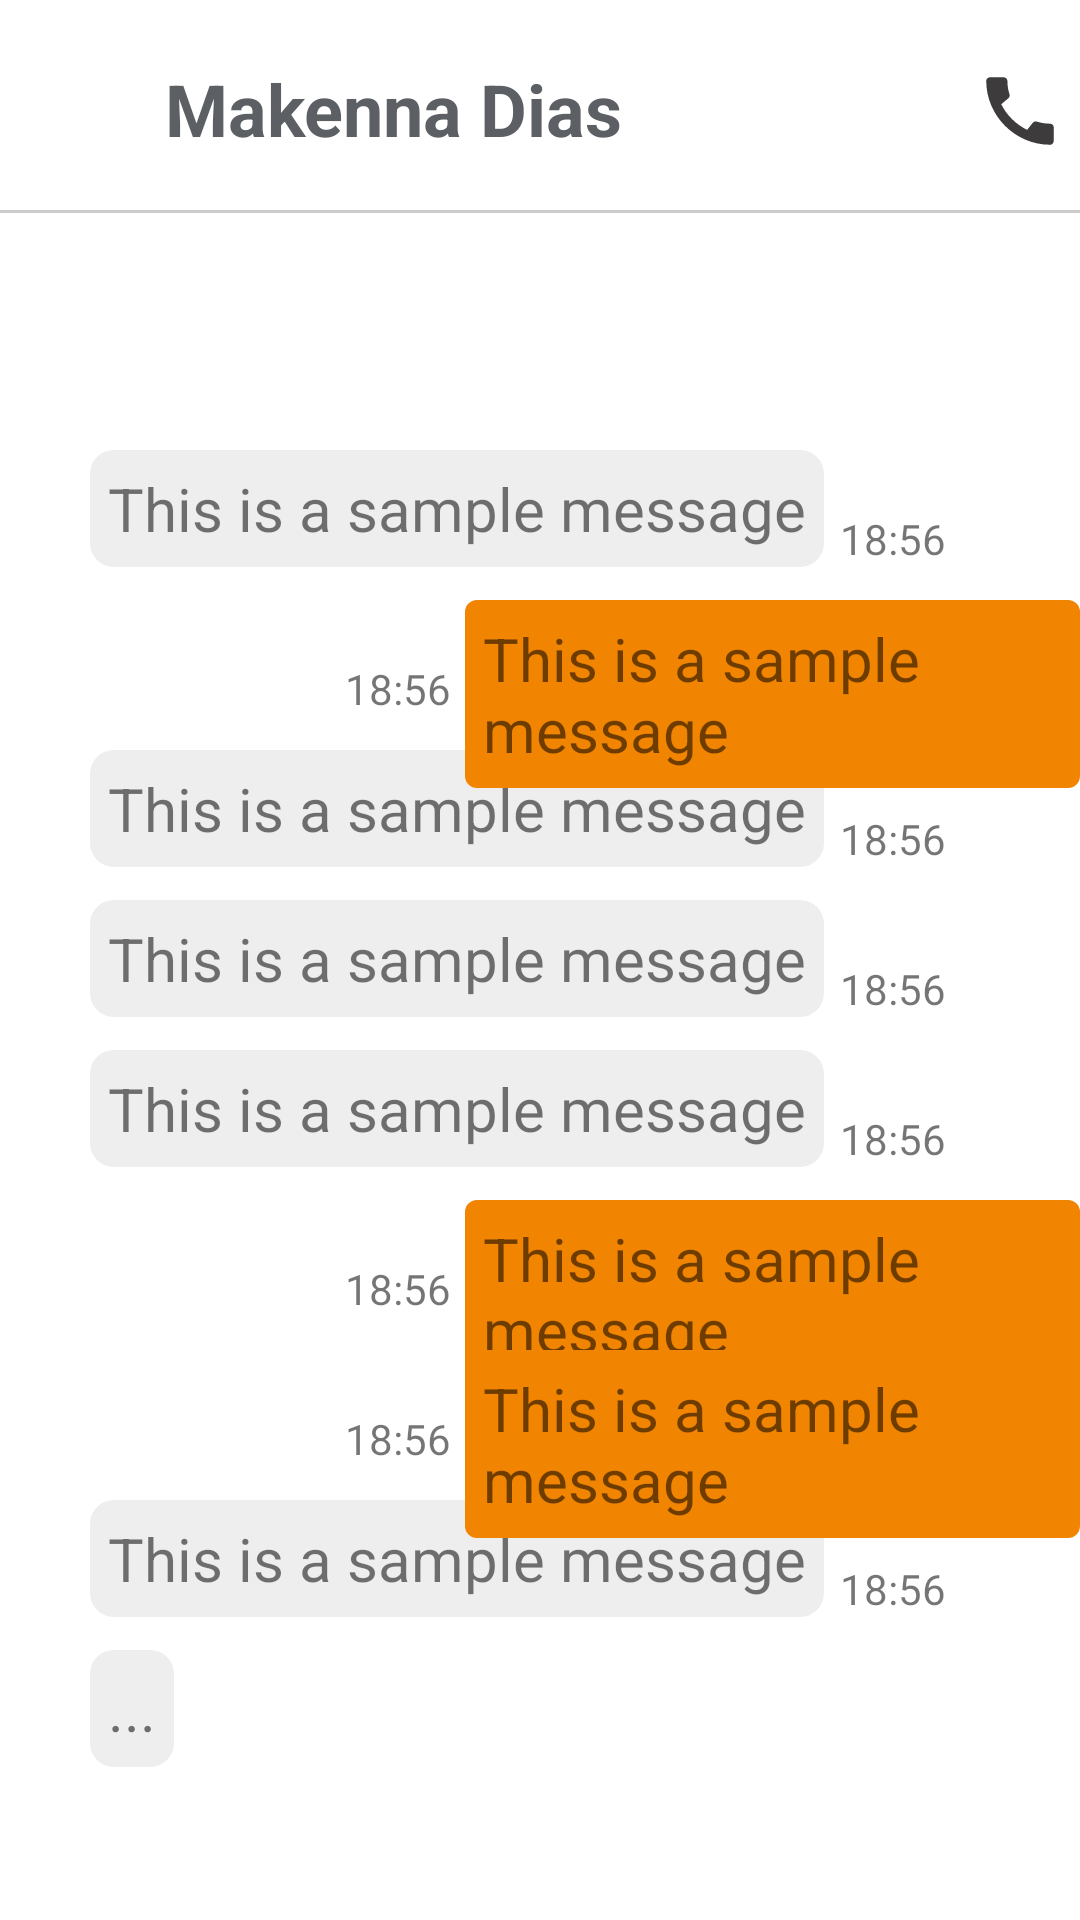

Where icons sit on this 1080×1920 app screen, as region(x1, y1, x2, y2):
call: region(986, 77, 1054, 145)
